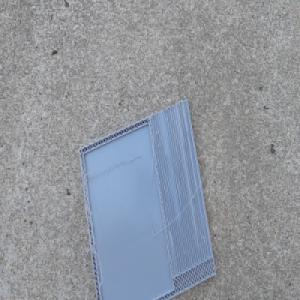PlasticPart: (76, 98, 217, 300)
